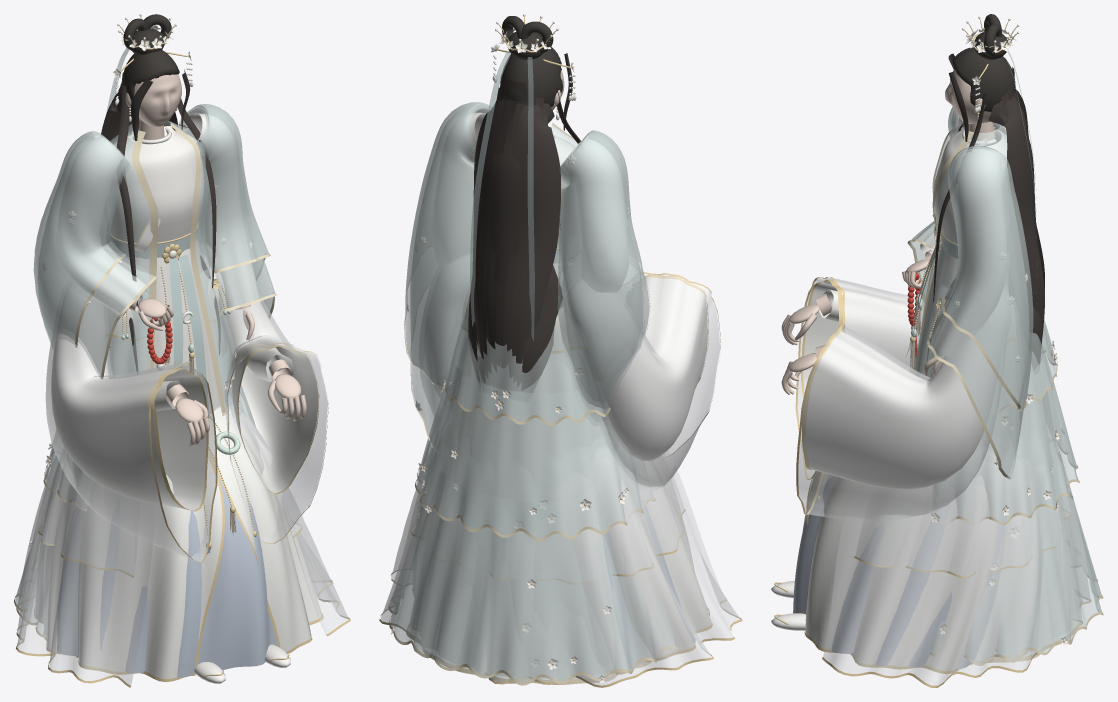
Rendered from characters.glb.
3 renders of one model, left to right at view 1: azimuth 30°, elevation 25°; view 2: azimuth 150°, elevation 25°; view 3: azimuth 270°, elevation 25°, orthographic. The views are drawn at different scales.
Parts seen in each view (by area): view 1: MaleBody_M_Robe, MaleBody_M_Sheer, MaleArmR_M_Sheer, MaleArmR_M_Robe, FemaleArmR_F_Lace, MaleBody_M_Skirt, FemaleBody_F_Lace, FemaleBody_F_Inner, MaleArmL_M_Robe, FemaleArmL_F_Lace, FemaleArmR_F_Inner, MaleArmL_M_Sheer (+17 smaller); view 2: FemaleBody_F_Lace, MaleBody_M_Sheer, FemaleHairBack_HairCard, FemaleArmR_F_Lace, MaleArmR_M_Sheer, FemaleArmL_F_Lace, MaleBody_M_Robe, MaleArmR_M_Robe, FemaleBody_F_Inner, FemaleArmR_F_Inner, FemaleArmL_F_Inner, FemaleHead_Hair (+6 smaller); view 3: MaleBody_M_Sheer, FemaleBody_F_Lace, MaleArmL_M_Sheer, MaleBody_M_Robe, MaleArmL_M_Robe, FemaleArmL_F_Lace, MaleBody_M_Skirt, FemaleArmL_F_Inner, MaleArmR_M_Robe, FemaleHairBack_HairCard, MaleArmR_M_Sheer, FemaleBody_F_Inner (+15 smaller).
Part boxes in pixels (x1=…): MaleBody_M_Robe: x1=35, y1=265, x2=322, y2=679; MaleBody_M_Sheer: x1=17, y1=402, x2=348, y2=685; MaleArmR_M_Sheer: x1=45, y1=297, x2=215, y2=562; MaleArmR_M_Robe: x1=51, y1=297, x2=206, y2=510; FemaleArmR_F_Lace: x1=33, y1=131, x2=154, y2=377; MaleBody_M_Skirt: x1=37, y1=452, x2=310, y2=678; FemaleBody_F_Lace: x1=15, y1=118, x2=255, y2=635; FemaleBody_F_Inner: x1=110, y1=126, x2=228, y2=413; MaleArmL_M_Robe: x1=203, y1=255, x2=318, y2=493; FemaleArmL_F_Lace: x1=178, y1=104, x2=274, y2=315; FemaleArmR_F_Inner: x1=56, y1=137, x2=145, y2=316; MaleArmL_M_Sheer: x1=205, y1=257, x2=327, y2=542; FemaleBody_F_Lace: x1=390, y1=125, x2=677, y2=682; MaleBody_M_Sheer: x1=381, y1=435, x2=740, y2=685; FemaleHairBack_HairCard: x1=473, y1=78, x2=560, y2=391; FemaleArmR_F_Lace: x1=557, y1=130, x2=649, y2=421; MaleArmR_M_Sheer: x1=599, y1=274, x2=720, y2=487; FemaleArmL_F_Lace: x1=405, y1=102, x2=491, y2=446; MaleBody_M_Robe: x1=413, y1=283, x2=711, y2=671; MaleArmR_M_Robe: x1=606, y1=277, x2=707, y2=460; FemaleBody_F_Inner: x1=420, y1=134, x2=602, y2=679; FemaleArmR_F_Inner: x1=563, y1=138, x2=628, y2=291; FemaleArmL_F_Inner: x1=432, y1=112, x2=486, y2=265; FemaleHead_Hair: x1=500, y1=16, x2=562, y2=106; MaleBody_M_Sheer: x1=823, y1=449, x2=1089, y2=685; FemaleBody_F_Lace: x1=907, y1=123, x2=1101, y2=662; MaleArmL_M_Sheer: x1=798, y1=326, x2=1001, y2=519; MaleBody_M_Robe: x1=805, y1=275, x2=1039, y2=671; MaleArmL_M_Robe: x1=806, y1=331, x2=997, y2=489; FemaleArmL_F_Lace: x1=929, y1=145, x2=1033, y2=476; MaleBody_M_Skirt: x1=793, y1=475, x2=1042, y2=669; FemaleArmL_F_Inner: x1=933, y1=151, x2=1006, y2=357; MaleArmR_M_Robe: x1=803, y1=280, x2=923, y2=391; FemaleHairBack_HairCard: x1=988, y1=67, x2=1044, y2=340; MaleArmR_M_Sheer: x1=797, y1=277, x2=923, y2=478; FemaleBody_F_Inner: x1=915, y1=127, x2=1053, y2=651.
Size of the model in its own units: 0.9457 by 1.71 by 0.8673.
